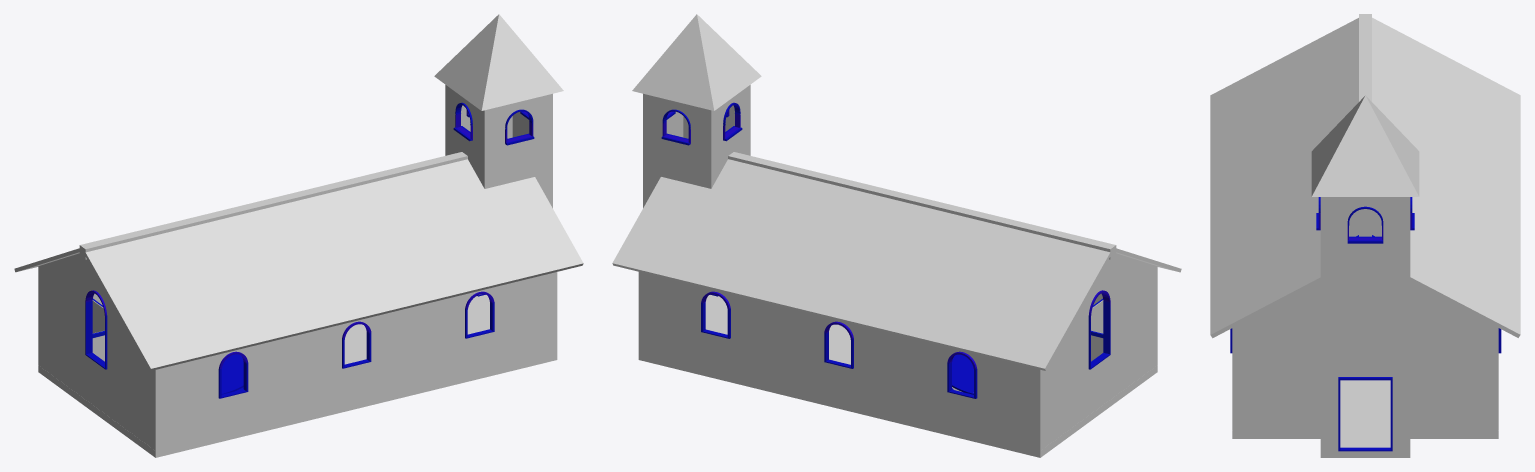
The model's file is church_Greyscale_Joined.fbx.
The picture shows the model from 3 angles, left to right: view 1: azimuth 30°, elevation 25°; view 2: azimuth 150°, elevation 25°; view 3: azimuth 270°, elevation 25°; orthographic projection. The views are drawn at different scales.
Parts seen in each view (by area): view 1: roof, Walls, Floor, rails, choir box walls; view 2: roof, Walls, Floor, rails, choir box walls; view 3: roof, Walls, Floor, rails.
Part boxes in pixels (<box>): roof: <box>14,14,583,370</box>; Walls: <box>38,85,557,450</box>; Floor: <box>38,295,557,457</box>; rails: <box>85,102,534,398</box>; choir box walls: <box>92,300,104,361</box>; roof: <box>612,14,1181,370</box>; Walls: <box>638,85,1157,450</box>; Floor: <box>638,295,1157,457</box>; rails: <box>661,102,1110,398</box>; choir box walls: <box>1091,300,1103,361</box>; roof: <box>1210,14,1520,338</box>; Walls: <box>1232,197,1498,450</box>; Floor: <box>1232,380,1498,457</box>; rails: <box>1230,197,1501,451</box>.
Bounding box in the file's own units: 2096 × 1326 × 1084.
